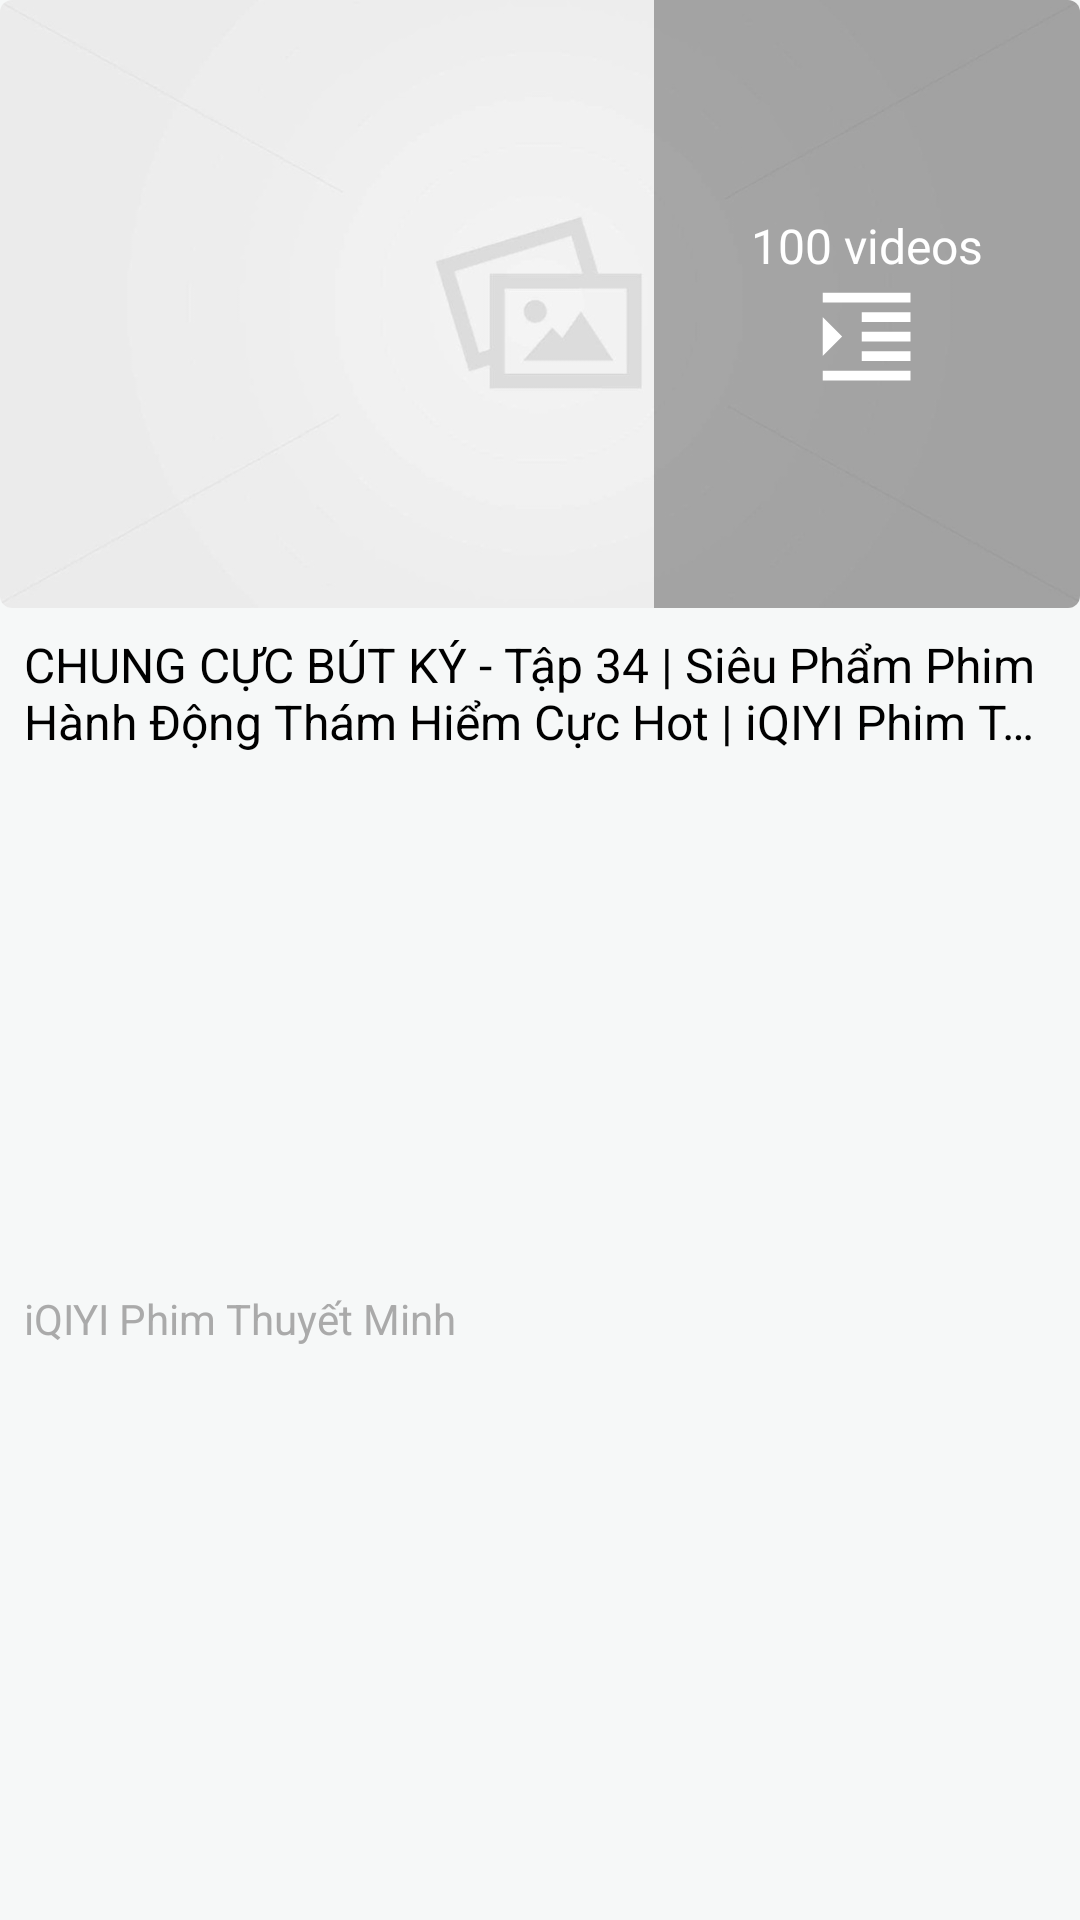

Named icons in this screenshot (1080px×1920px) and their centers, point (x, y):
playlist: point (867, 337)
